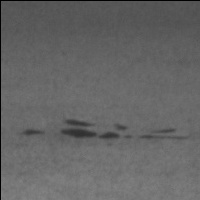inclusion: (53, 117, 192, 145), (17, 125, 50, 140)
